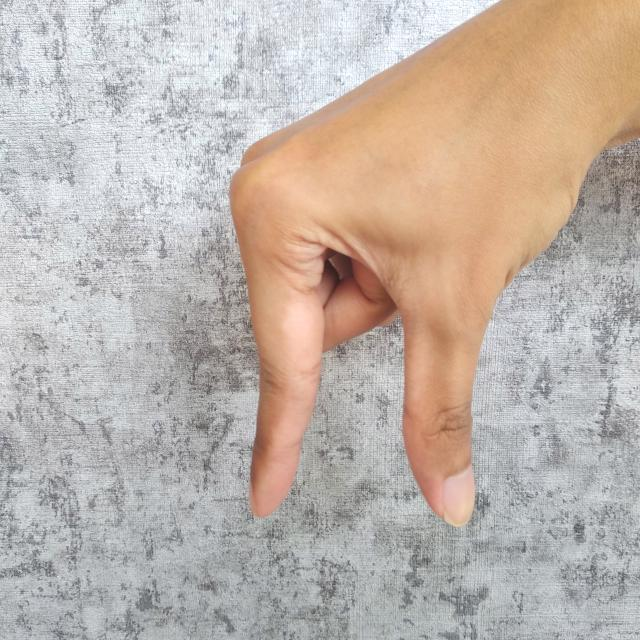Q: (217, 0, 640, 531)
